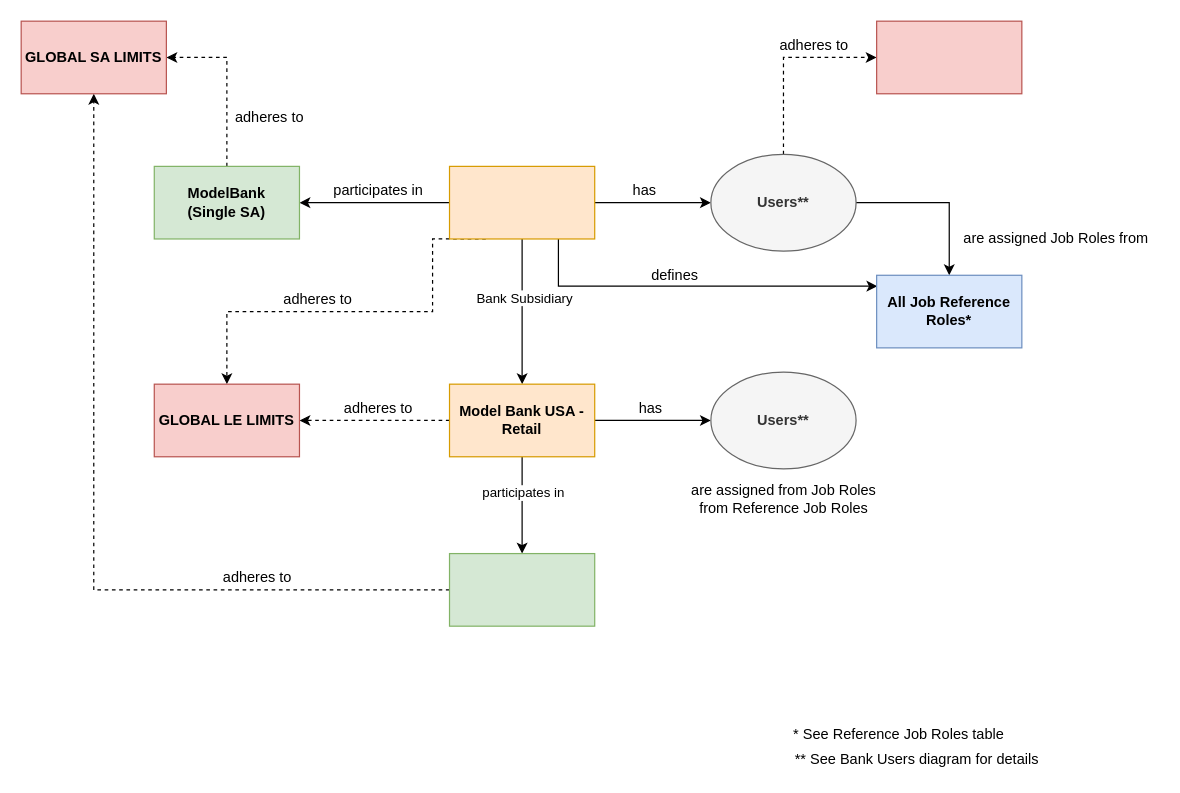
Image size: 1180x793. Some labels were removed from this diagram. Each missing label, with the centre of its shape:
GLOBAL USER LIMIT: [948,57]
ModelBank (LE:Bank): [521,202]
ModelBank USA RETAIL (Single SA): [521,589]
